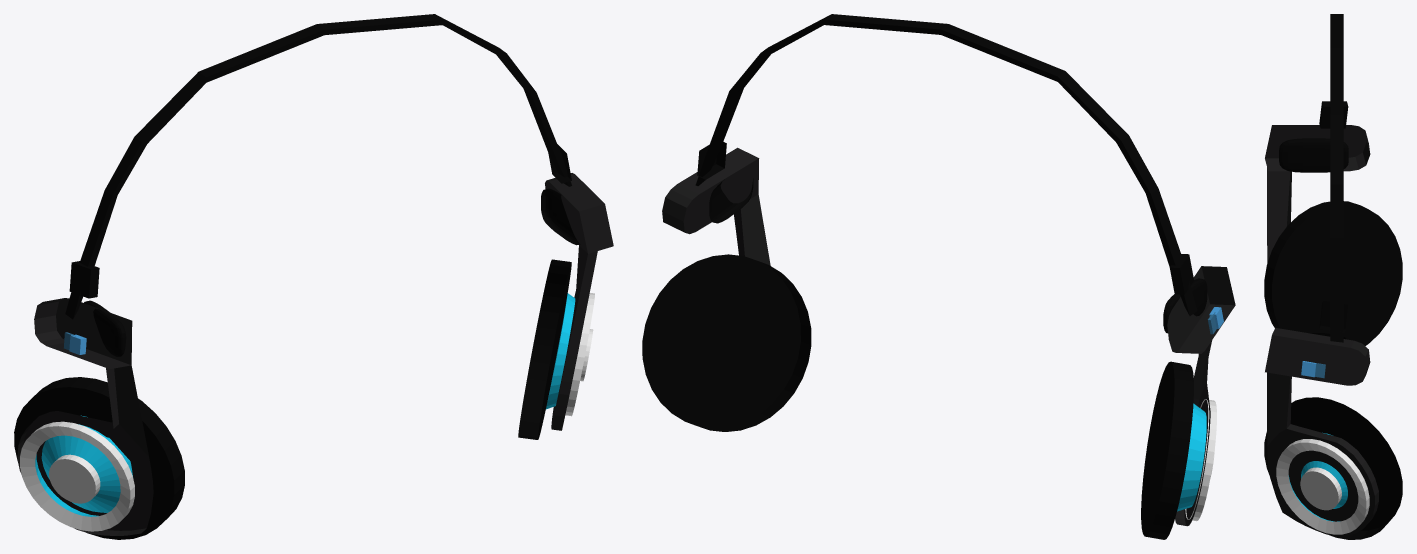
The model's file is hat_koss_portapros.glb.
3 renders of one model, left to right at view 1: azimuth 30°, elevation 25°; view 2: azimuth 150°, elevation 25°; view 3: azimuth 270°, elevation 25°, orthographic. The views are drawn at different scales.
Visible parts, largest first — view 1: Hatmodel; view 2: Hatmodel; view 3: Hatmodel.
Part boxes in pixels (bbox=[...]): Hatmodel: bbox=[14, 14, 613, 539]; Hatmodel: bbox=[642, 14, 1235, 539]; Hatmodel: bbox=[1264, 14, 1402, 539].
Size of the model in its own units: 5.79 by 4.45 by 1.4.
